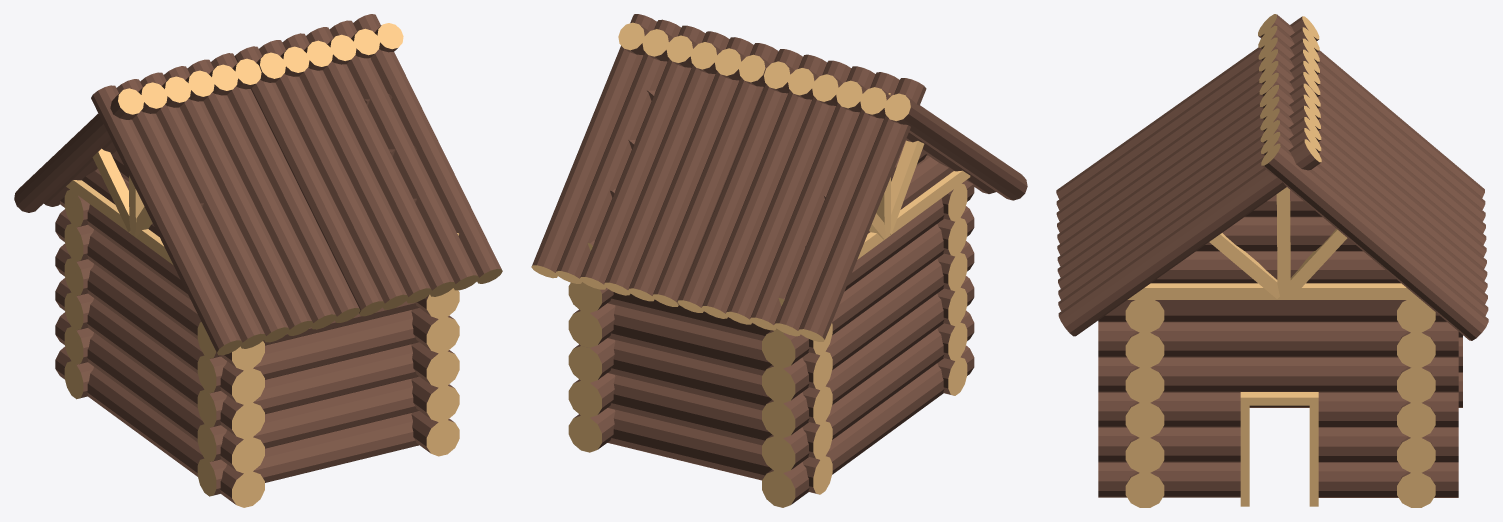
File: cabin.glb
3 views of the same model, side by side, from view 1: azimuth 30°, elevation 25°; view 2: azimuth 150°, elevation 25°; view 3: azimuth 270°, elevation 25° (orthographic). The views are drawn at different scales.
Visible parts, largest first — view 1: model; view 2: model; view 3: model.
Boxes of the visible parts, x1=… form: model: x1=14, y1=14, x2=502, y2=507; model: x1=531, y1=14, x2=1027, y2=507; model: x1=1056, y1=14, x2=1488, y2=507.
Size of the model in its own units: 0.7707 by 0.9275 by 0.9718.
